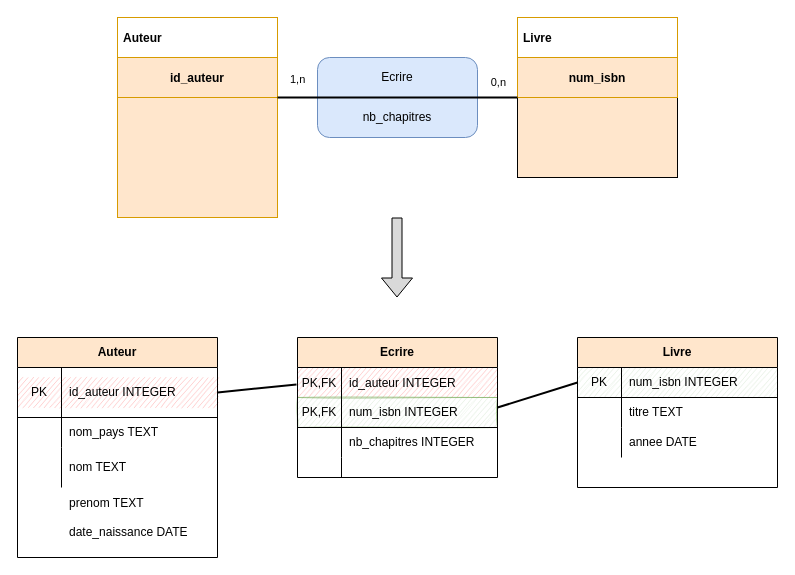
The diagram is 795 pixels wide and 575 high, and some of its shapes have lost their labels. The shapes that lost their labels are listed below. From the top down, each one's centre as x and y in pixels, then its label:
the point at 197,157: nom_pays nom prenom date_naissance
the point at 597,137: titre annee
